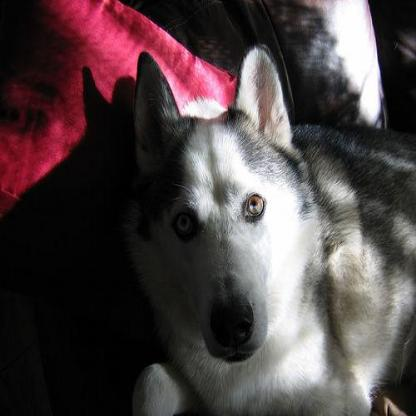Eskimo_dog: (111, 36, 414, 414)
